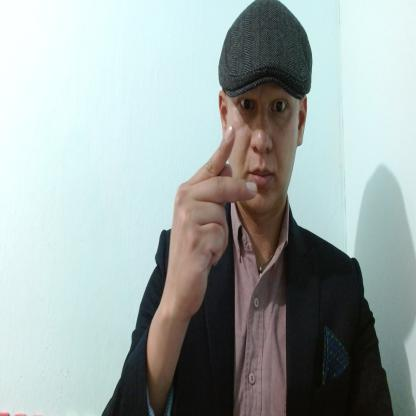P: (164, 123, 258, 316)
